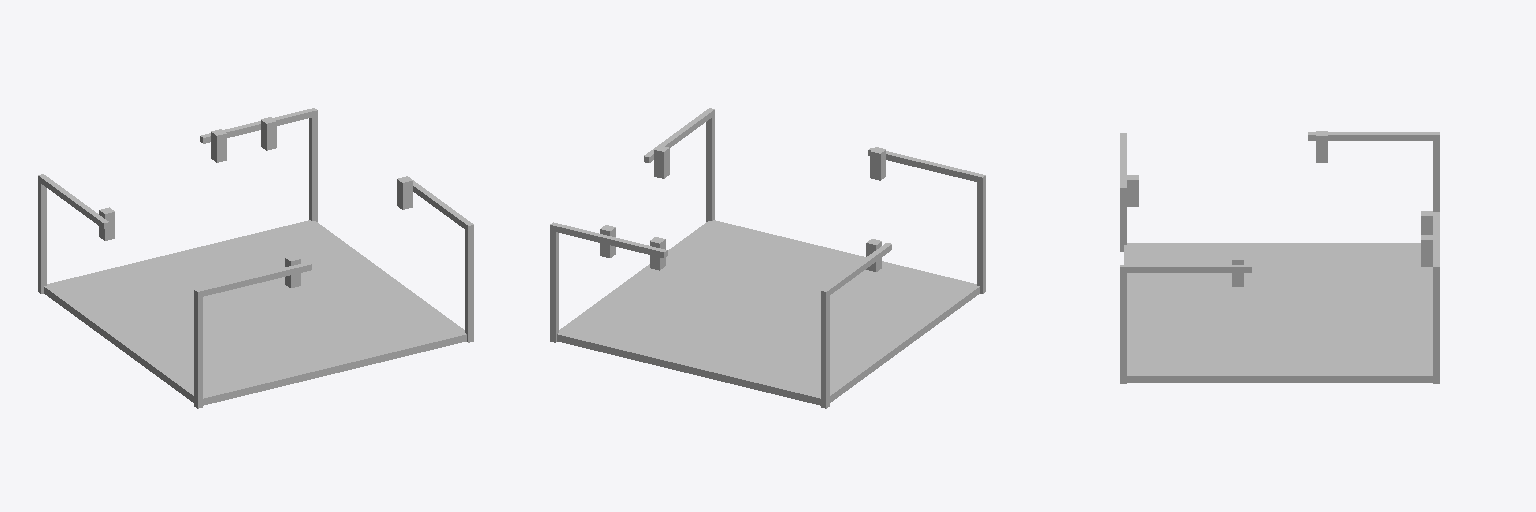
File: inter2111.obj
The picture shows the model from 3 angles: view 1: azimuth 30°, elevation 25°; view 2: azimuth 150°, elevation 25°; view 3: azimuth 270°, elevation 25°; orthographic projection.
Visible parts, largest first — view 1: 2111_intersection_Plane.003; view 2: 2111_intersection_Plane.003; view 3: 2111_intersection_Plane.003.
Boxes of the visible parts, x1,y1,x2,y2 form: 2111_intersection_Plane.003: [38, 108, 473, 408]; 2111_intersection_Plane.003: [550, 108, 985, 408]; 2111_intersection_Plane.003: [1120, 131, 1439, 383].
Bounding box in the file's own units: 4.08 × 1.71 × 4.08.